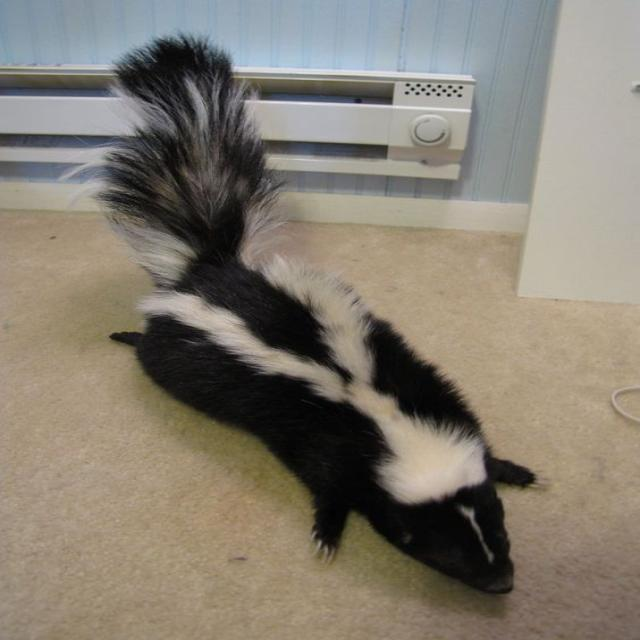Skunk: (77, 18, 566, 605)
